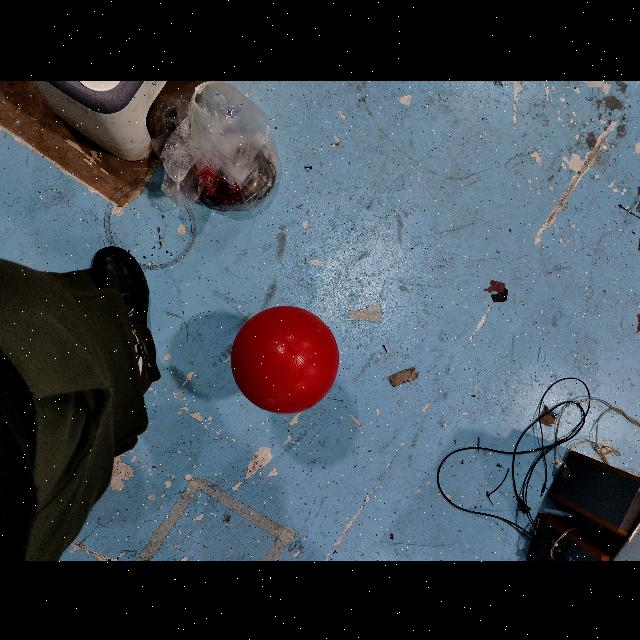R: (230, 305, 340, 413)
